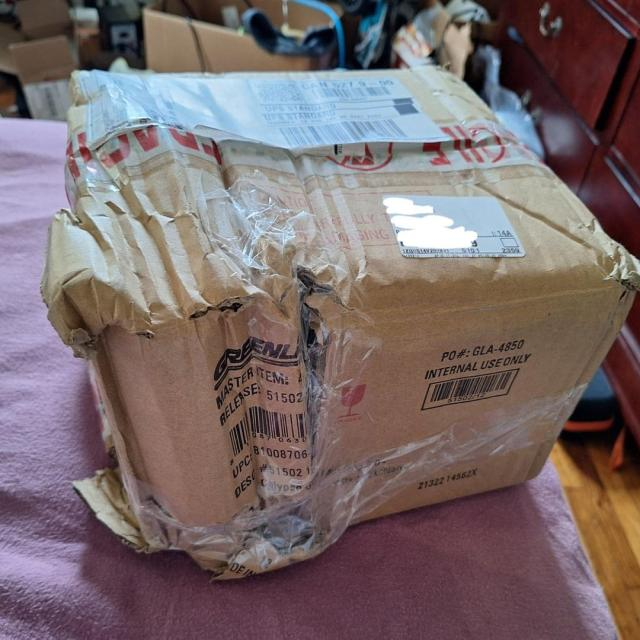carton_box: (31, 51, 640, 596)
export_mark_label: (79, 65, 450, 146)
package_damage: (32, 145, 352, 582), (579, 191, 640, 337)
